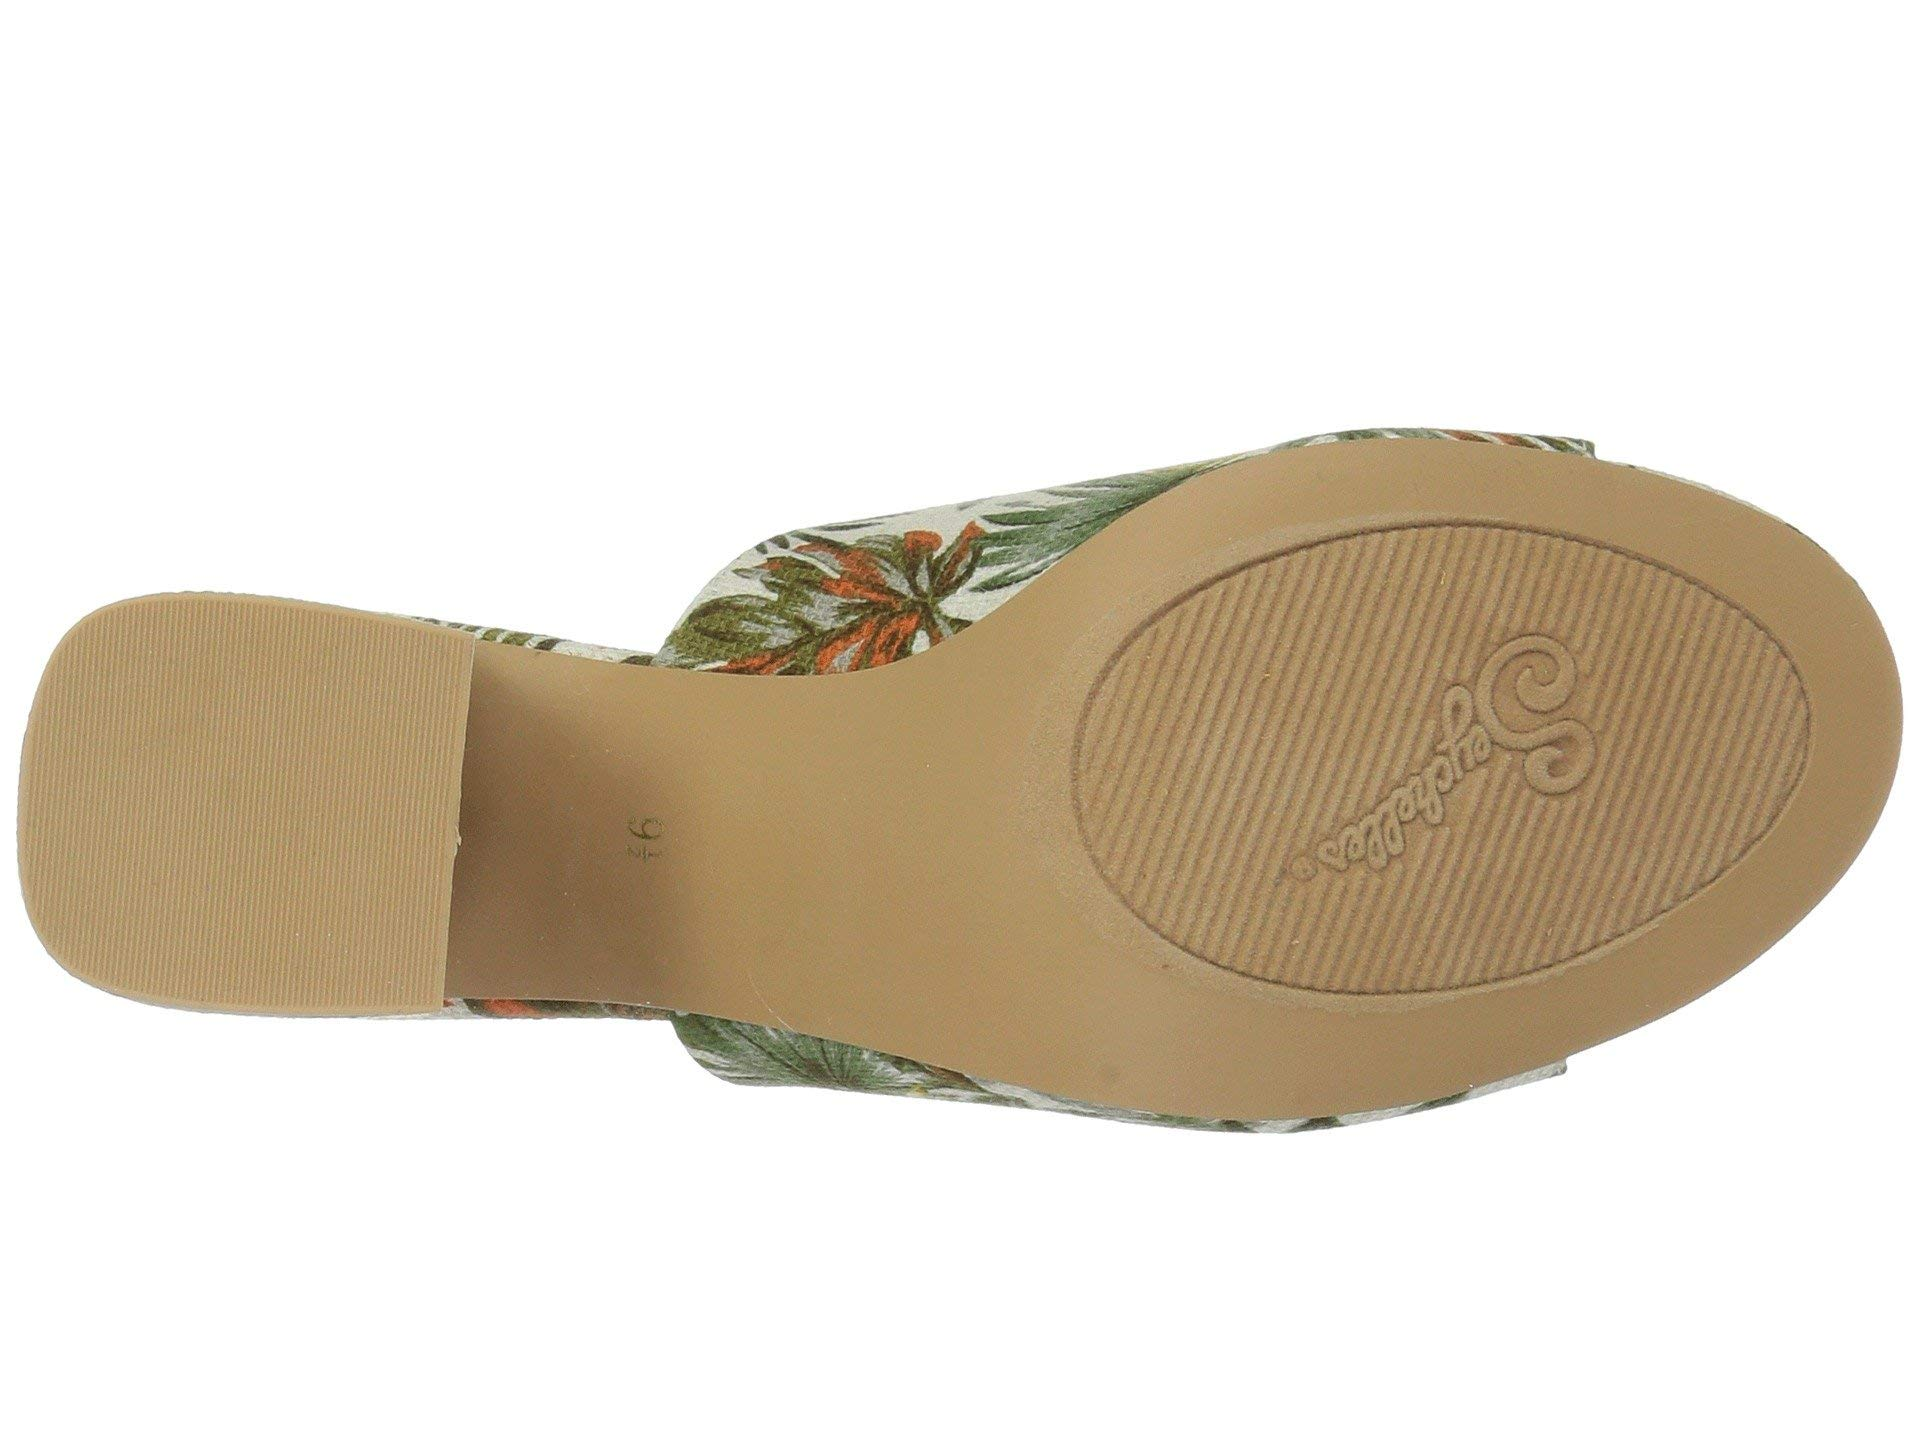circle: (1023, 481, 1853, 1060), (584, 773, 695, 888)
line: (1023, 481, 1853, 1060), (116, 611, 370, 942)
text: (1023, 481, 1853, 1060), (584, 773, 695, 888)
